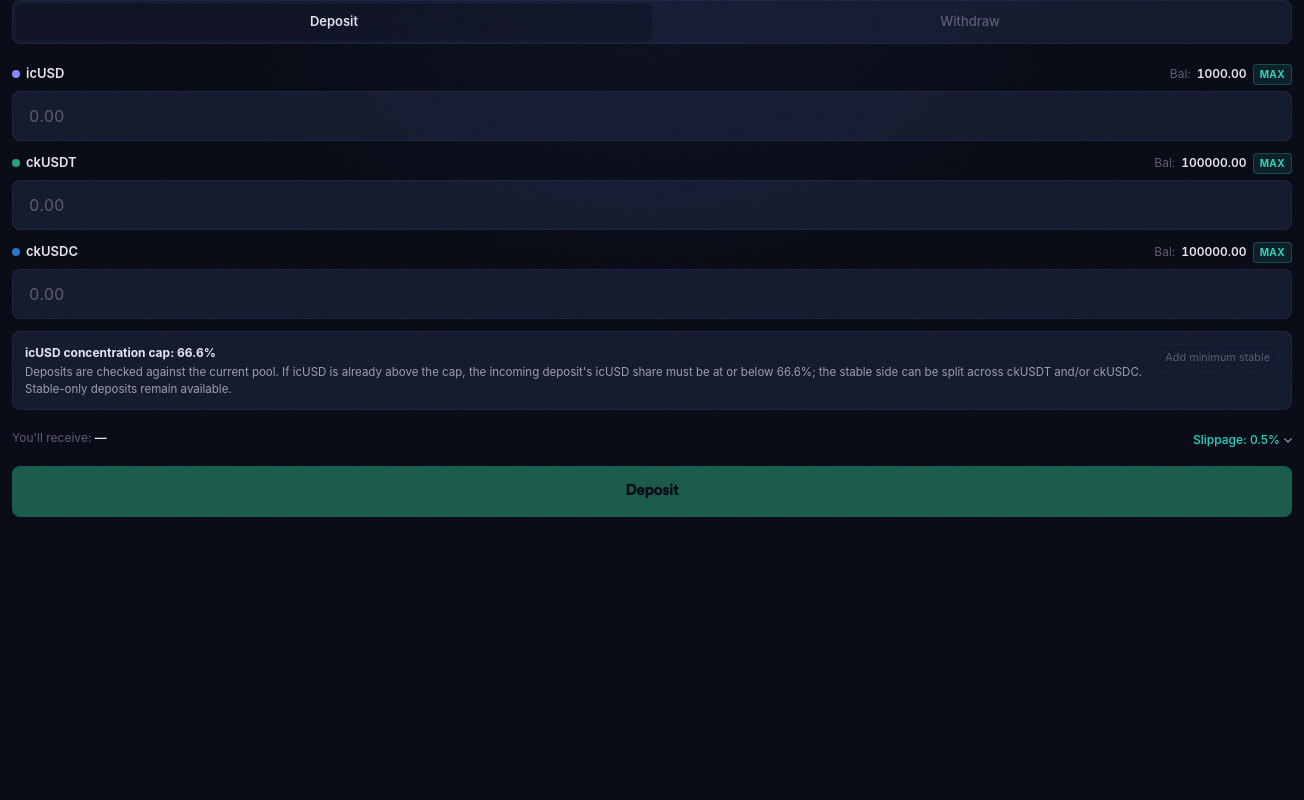
LiquidityInterface deposit concentration UX › fills the exact rounded minimum pair and enables deposit after a valid quote
In the number field with class "amount-input" below "1000.00": (652, 116) [12,90,1292,140], type "200"
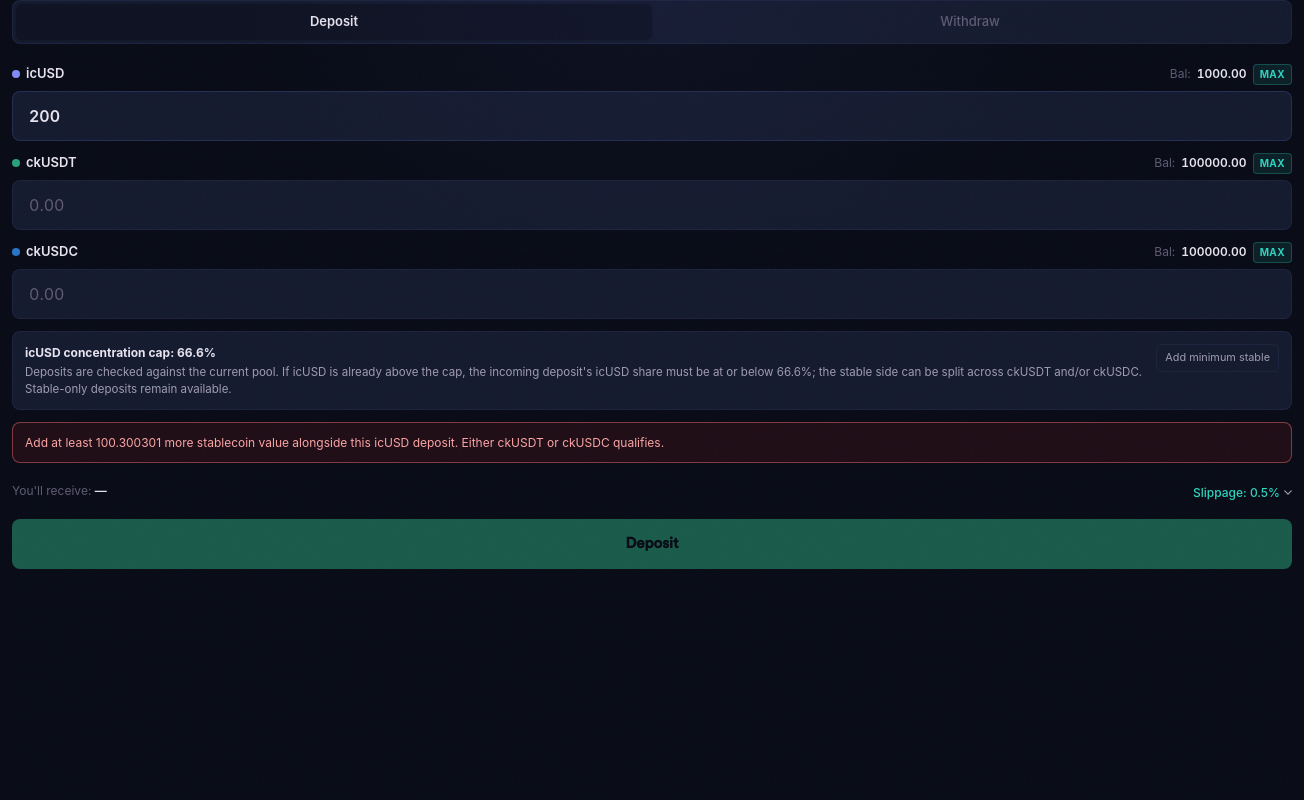
expect the button "Add minimum stable" is enabled: met
expect the text "more stablecoin value" is shown: met, box [25,435,664,450]
Click the button "Add minimum stable": (1218, 358) [1156,344,1279,372]
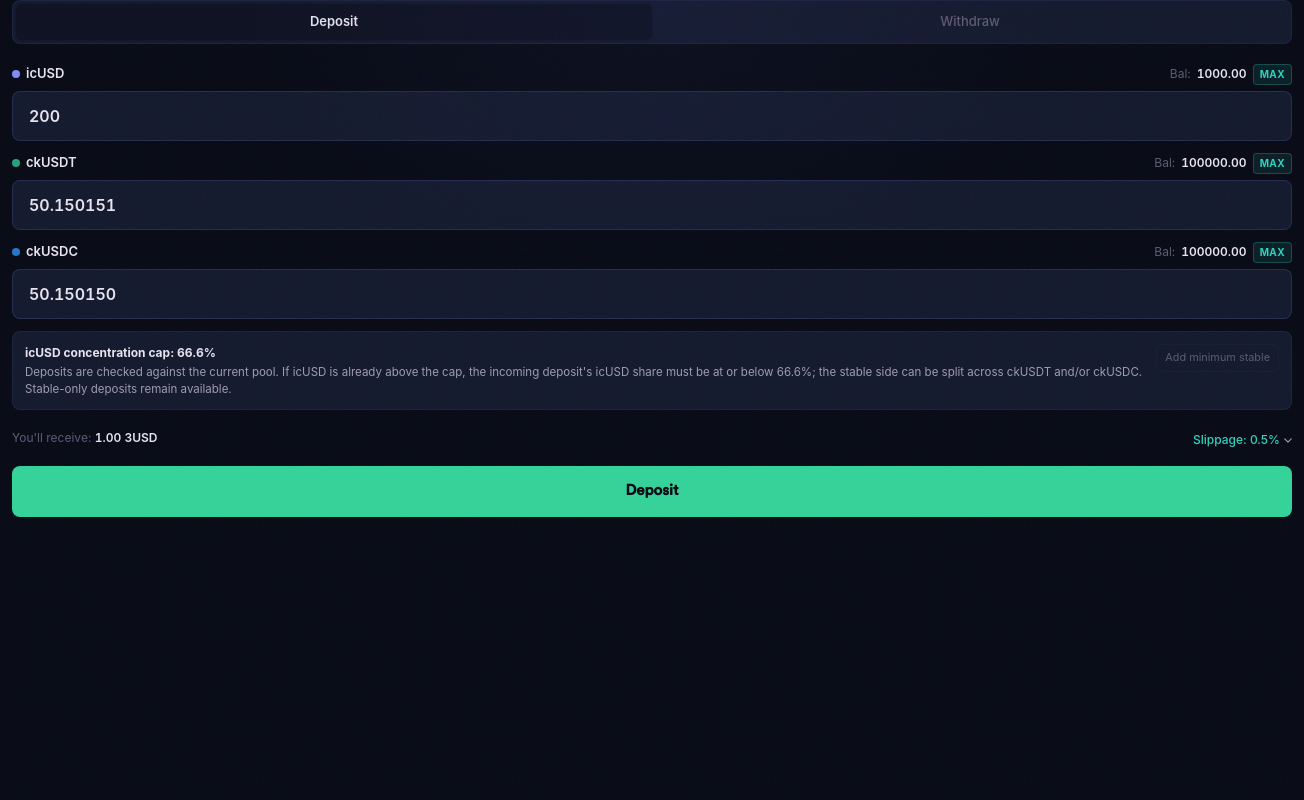
expect the 2nd number field with class "amount-input" holds "50.150151": met, box [12,180,1292,230]
expect the 3rd number field with class "amount-input" holds "50.150150": met, box [12,268,1292,318]
expect the 2nd button "Deposit" is enabled: met, box [12,466,1292,517]
